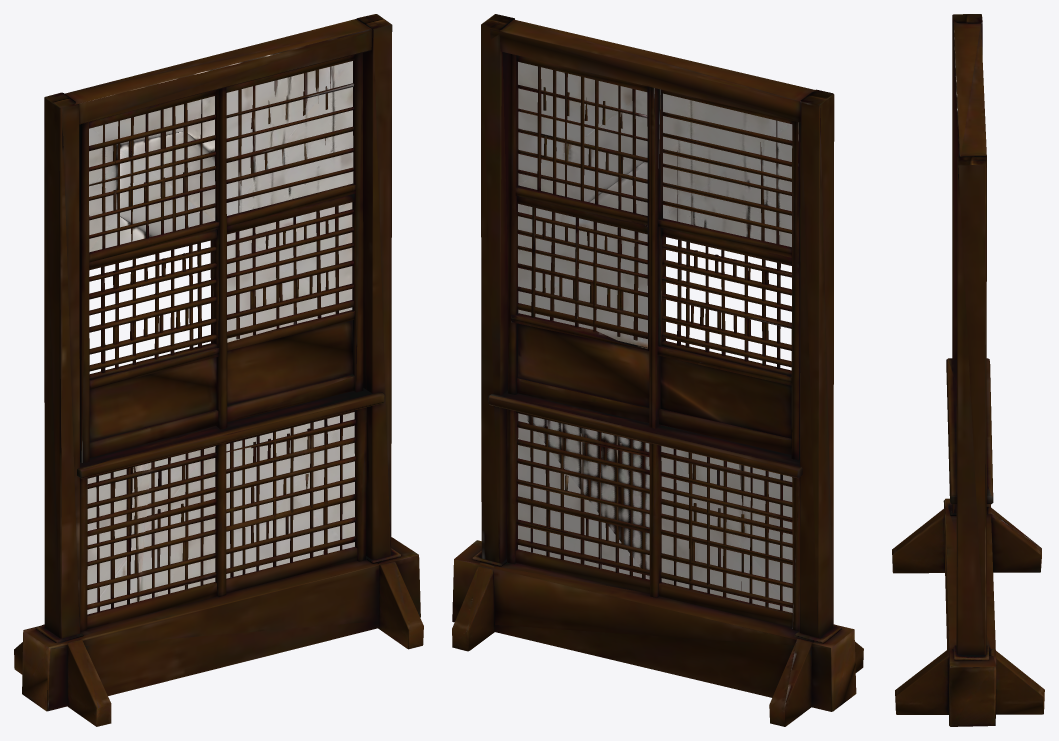
Rendered from capiz-window.glb.
The picture shows the model from 3 angles, left to right: view 1: azimuth 30°, elevation 25°; view 2: azimuth 150°, elevation 25°; view 3: azimuth 270°, elevation 25°; orthographic projection. The views are drawn at different scales.
Visible parts, largest first — view 1: geometry_0; view 2: geometry_0; view 3: geometry_0.
Part boxes in pixels (x1,y1,x2,y2): geometry_0: (14,14,423,726); geometry_0: (452,14,863,726); geometry_0: (892,14,1044,726).
Bounding box in the file's own units: 0.6639 × 1 × 0.2516.
Materials: 1 (1 with a texture image).
